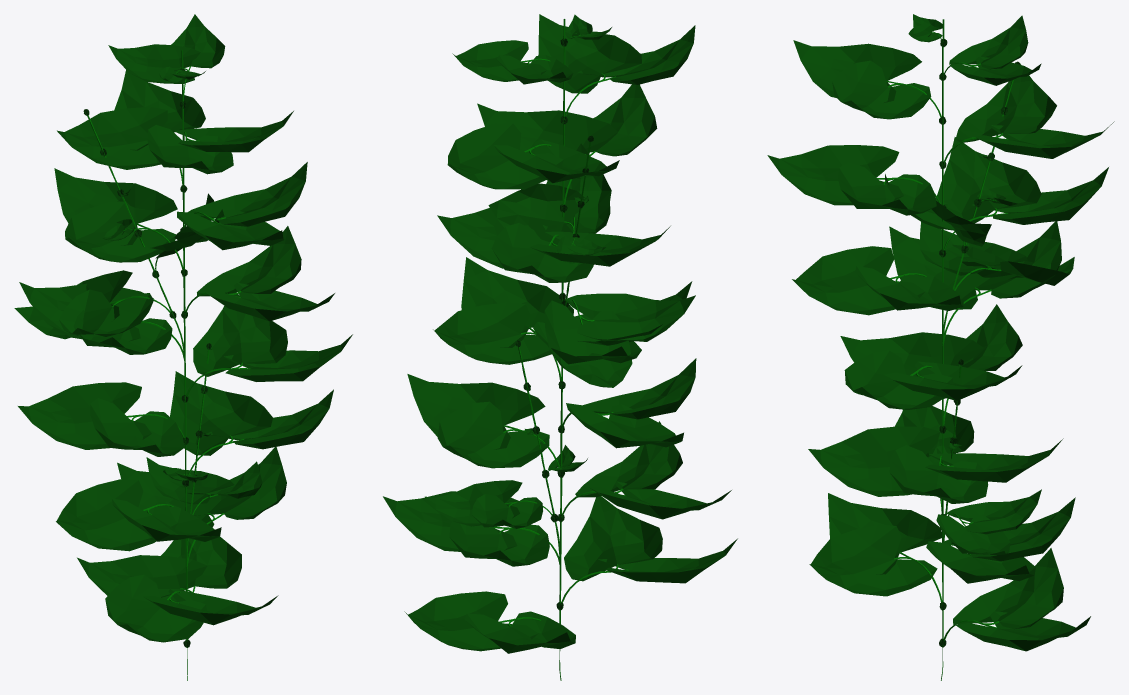
File: silverscp.glb
3 renders of one model, left to right at view 1: azimuth 30°, elevation 25°; view 2: azimuth 150°, elevation 25°; view 3: azimuth 270°, elevation 25°, orthographic. The views are drawn at different scales.
Visible parts, largest first — view 1: 1hourglas; view 2: 1hourglas; view 3: 1hourglas.
Boxes of the visible parts, <box> form: 1hourglas: <box>14,14,352,680</box>; 1hourglas: <box>383,14,737,680</box>; 1hourglas: <box>767,14,1114,680</box>.
Size of the model in its own units: 2.21 by 4.53 by 2.17.
